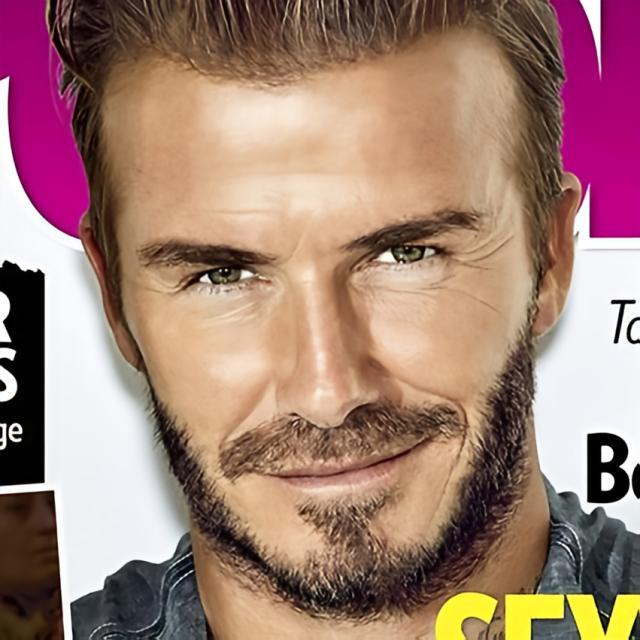content: (103, 0, 533, 608)
